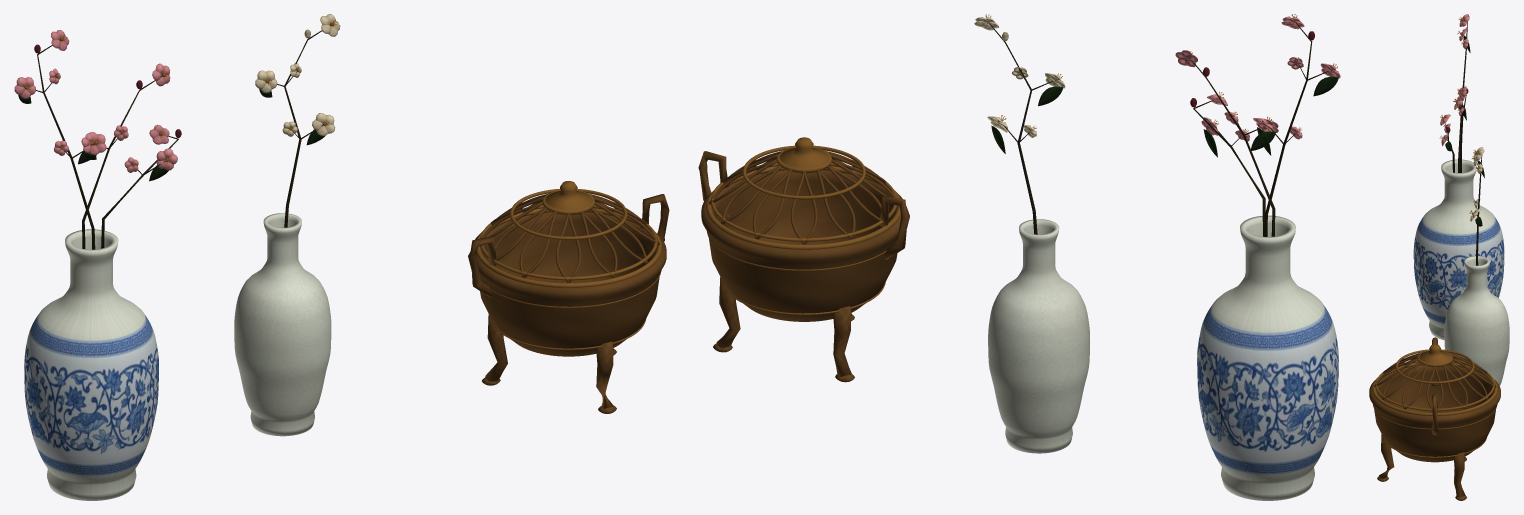
Rendered from gpt-pinghuaxiangding-v1.glb.
3 renders of one model, left to right at view 1: azimuth 30°, elevation 25°; view 2: azimuth 150°, elevation 25°; view 3: azimuth 270°, elevation 25°, orthographic. The views are drawn at different scales.
Parts seen in each view (by area): view 1: 25_青花瓶_高030, 25_香鼎_三足炉身, 25_白瓷瓶_高025, 25_香鼎_可揭镂空罩, 25_青花瓶_三枝花, 25_白瓷瓶_一枝花; view 2: 25_青花瓶_高030, 25_香鼎_三足炉身, 25_白瓷瓶_高025, 25_香鼎_可揭镂空罩, 25_青花瓶_三枝花, 25_白瓷瓶_一枝花; view 3: 25_香鼎_三足炉身, 25_青花瓶_高030, 25_白瓷瓶_高025, 25_香鼎_可揭镂空罩, 25_青花瓶_三枝花, 25_白瓷瓶_一枝花.
Part boxes in pixels (x1,y1,x2,y2): 25_青花瓶_高030: [24, 229, 158, 500]; 25_香鼎_三足炉身: [468, 194, 669, 413]; 25_白瓷瓶_高025: [234, 213, 331, 436]; 25_香鼎_可揭镂空罩: [476, 181, 662, 287]; 25_青花瓶_三枝花: [14, 30, 181, 249]; 25_白瓷瓶_一枝花: [255, 14, 340, 227]; 25_青花瓶_高030: [1197, 215, 1338, 500]; 25_香鼎_三足炉身: [698, 151, 909, 382]; 25_白瓷瓶_高025: [988, 219, 1089, 453]; 25_香鼎_可揭镂空罩: [706, 137, 900, 249]; 25_青花瓶_三枝花: [1175, 14, 1340, 236]; 25_白瓷瓶_一枝花: [974, 14, 1065, 234]; 25_香鼎_三足炉身: [1369, 337, 1500, 500]; 25_青花瓶_高030: [1413, 159, 1504, 340]; 25_白瓷瓶_高025: [1444, 256, 1509, 385]; 25_香鼎_可揭镂空罩: [1372, 344, 1497, 415]; 25_青花瓶_三枝花: [1439, 14, 1470, 172]; 25_白瓷瓶_一枝花: [1469, 147, 1484, 265].
Bounding box in the file's own units: 0.8195 × 0.5621 × 0.2345.
Materials: 11 (11 with a texture image).
